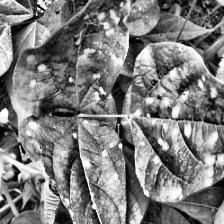Bean Rust: (128, 47, 224, 202), (20, 0, 135, 121), (21, 115, 125, 224)
